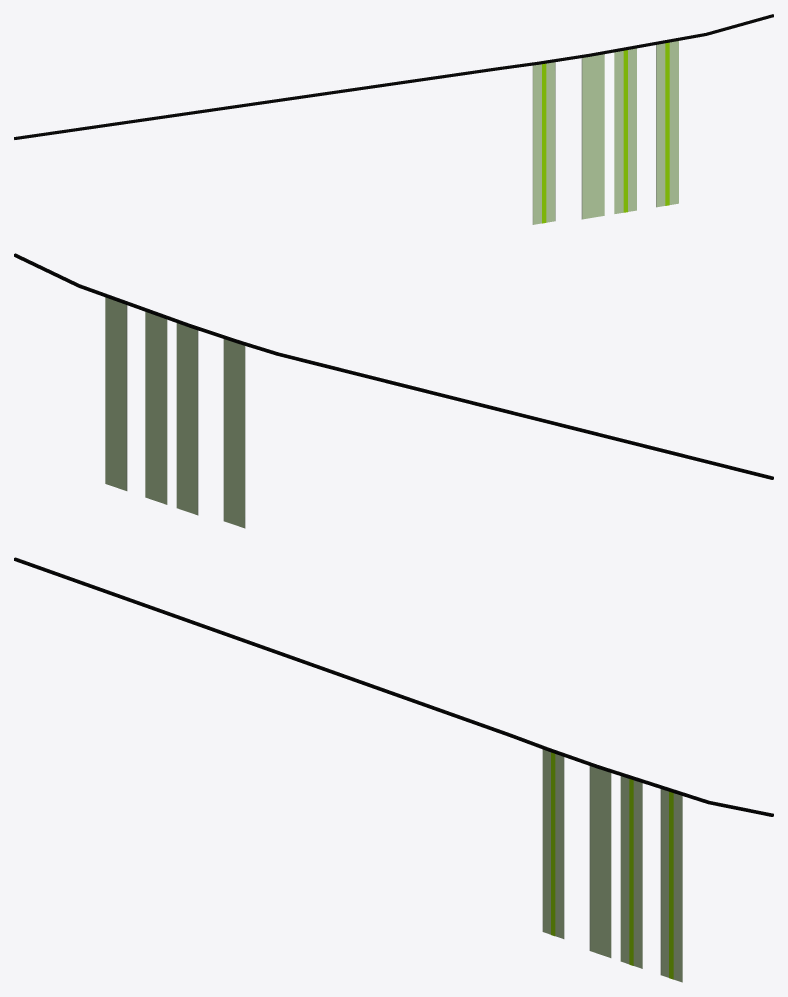
File: Narrow_Flags_02.glb
The picture shows the model from 3 angles, top to bottom: view 1: azimuth 30°, elevation 25°; view 2: azimuth 150°, elevation 25°; view 3: azimuth 330°, elevation 25°; orthographic projection. The views are drawn at different scales.
Parts seen in each view (by area): view 1: narrowflags_02_geo; view 2: narrowflags_02_geo; view 3: narrowflags_02_geo.
Part boxes in pixels (box(x1,y1,x2,y2)): narrowflags_02_geo: box(14, 14, 773, 224); narrowflags_02_geo: box(14, 253, 773, 528); narrowflags_02_geo: box(14, 557, 773, 982).
Size of the model in its own units: 12.99 by 3.29 by 1.58.
1 material, 1 textured.
